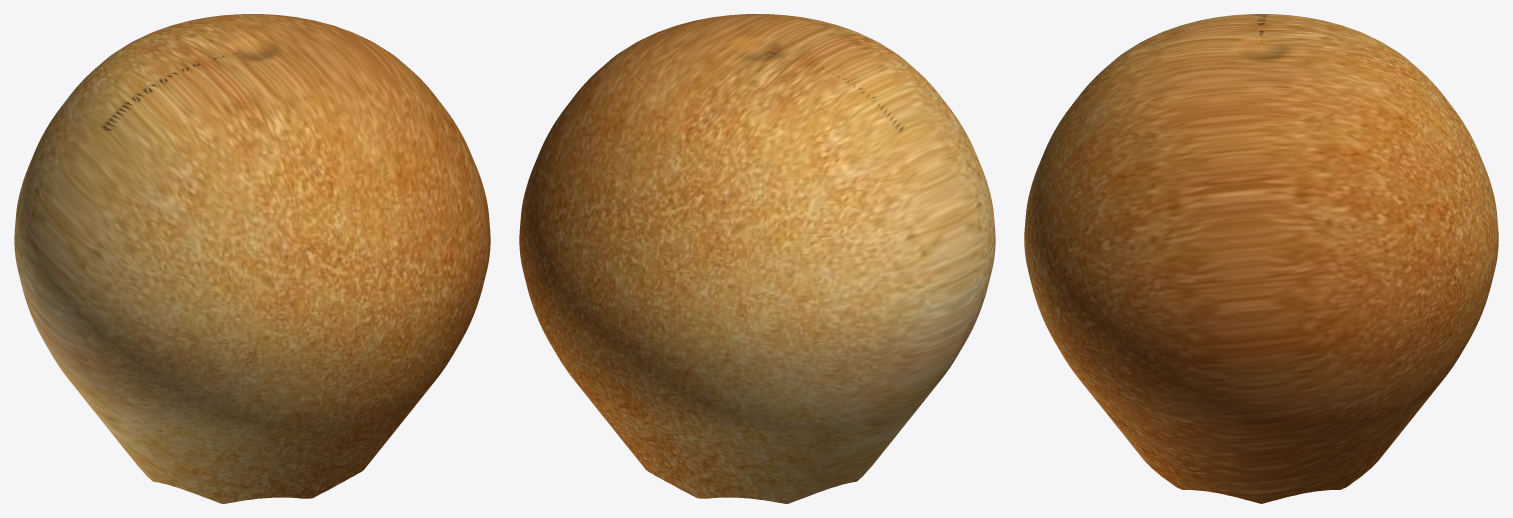
File: item_coxinha_centro.obj
3 renders of one model, left to right at view 1: azimuth 30°, elevation 25°; view 2: azimuth 150°, elevation 25°; view 3: azimuth 270°, elevation 25°, orthographic.
Bounding box in the file's own units: 101 × 96.13 × 102.
4 materials, 2 textured.
